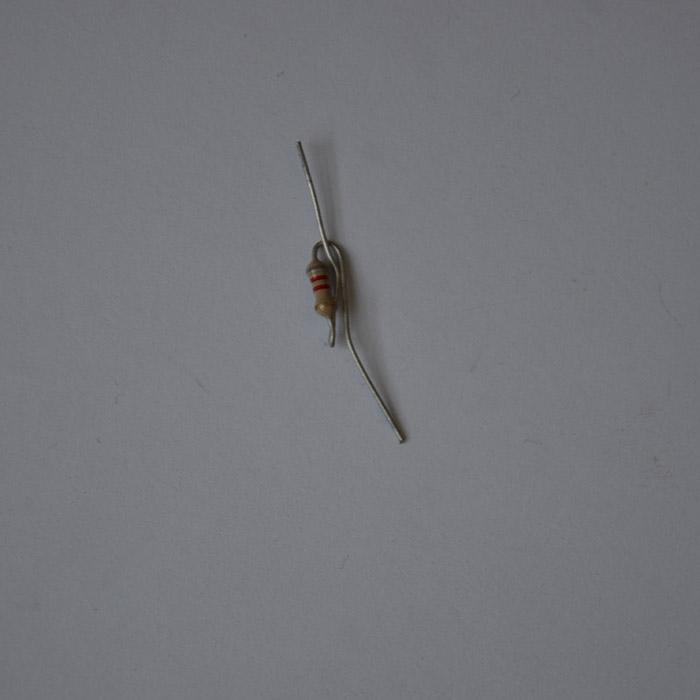resistor: (304, 248, 337, 320)
